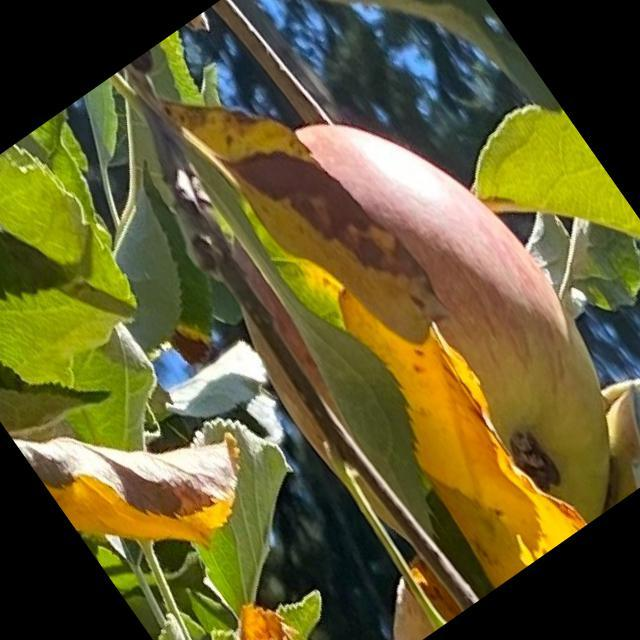100-_ripeness: (156, 61, 639, 628)
